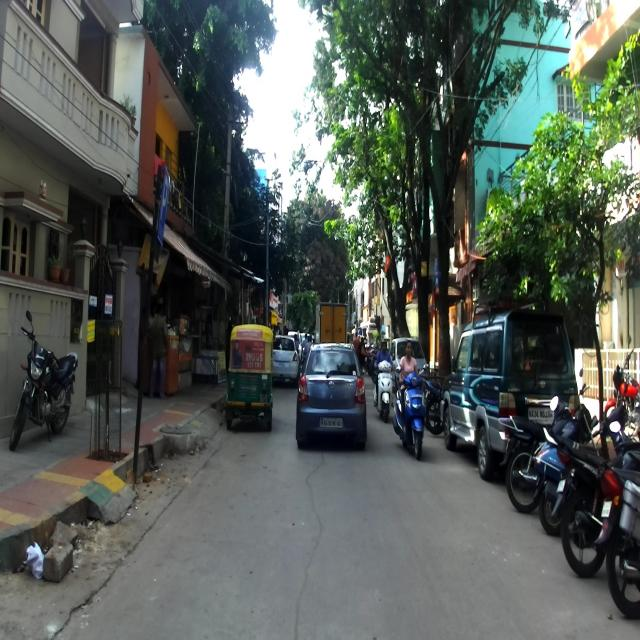Car_Toyota: (440, 293, 580, 479), (295, 341, 367, 450)
autorickshaw: (225, 323, 273, 432)
motorcycle: (7, 310, 79, 448), (603, 336, 640, 450)
motorcycle_Hero: (498, 409, 602, 511)
scooter: (534, 433, 604, 528), (392, 362, 429, 459)
